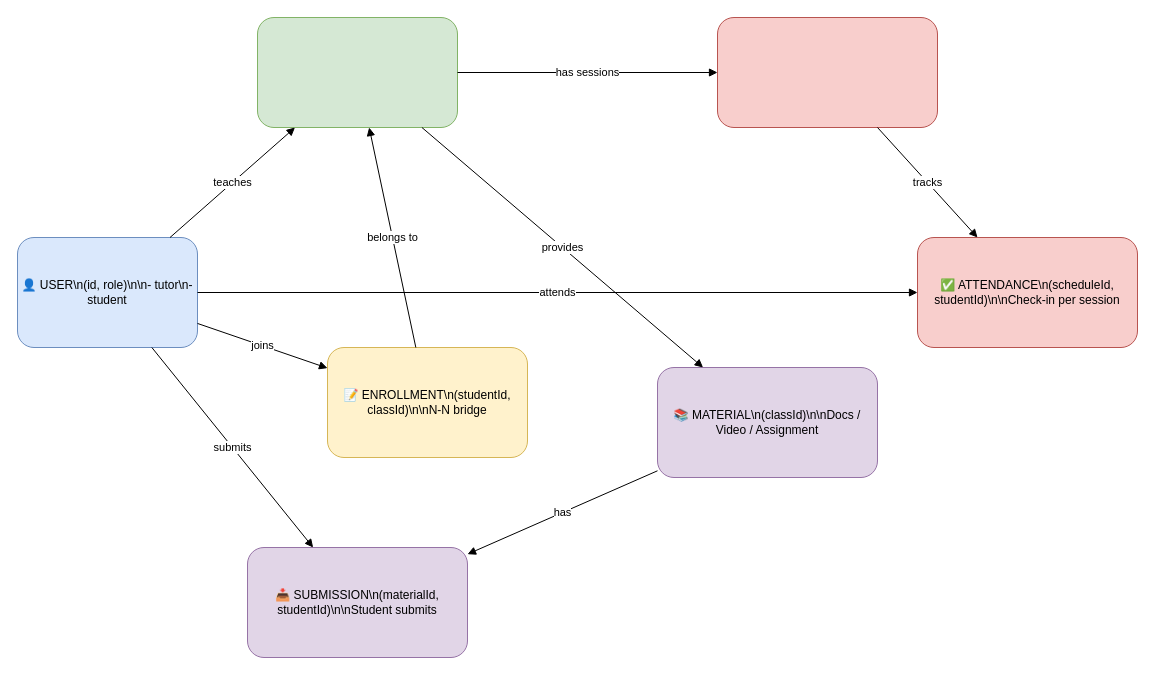
The diagram is 1155 pixels wide and 675 high, and some of its shapes have lost their labels. The box of each missing label's shape, as (x1, y1, x2, y2) in pixels:
🏫 CLASS\n(id, tutorId)\n\n1 class = 1 tutor: (256, 16, 458, 128)
📅 SCHEDULE\n(classId)\n\nEach class has many sessions: (716, 16, 938, 128)
